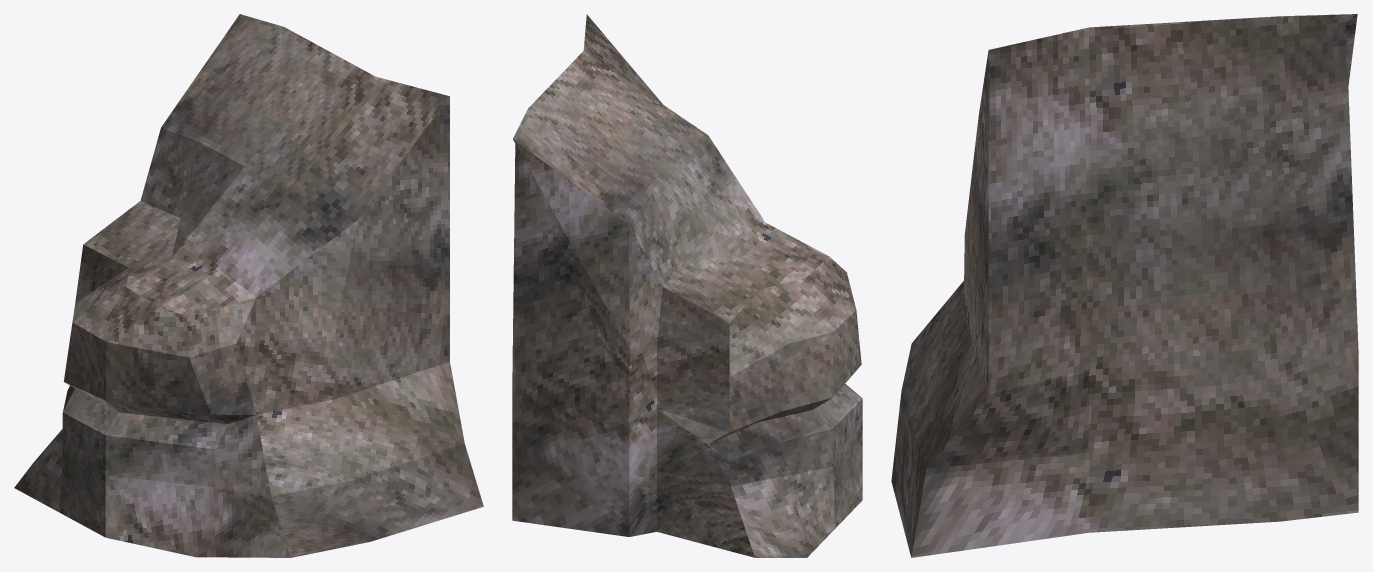
Rendered from sm_rock_5.gltf.
3 views of the same model, side by side, from view 1: azimuth 30°, elevation 25°; view 2: azimuth 150°, elevation 25°; view 3: azimuth 270°, elevation 25° (orthographic). The views are drawn at different scales.
Parts seen in each view (by area): view 1: Cube.001; view 2: Cube.001; view 3: Cube.001.
Part boxes in pixels (bbox=[...]): Cube.001: bbox=[14, 14, 483, 557]; Cube.001: bbox=[512, 14, 862, 557]; Cube.001: bbox=[891, 14, 1358, 557].
Size of the model in its own units: 4.99 by 5.58 by 4.67.
Materials: 1 (1 with a texture image).
